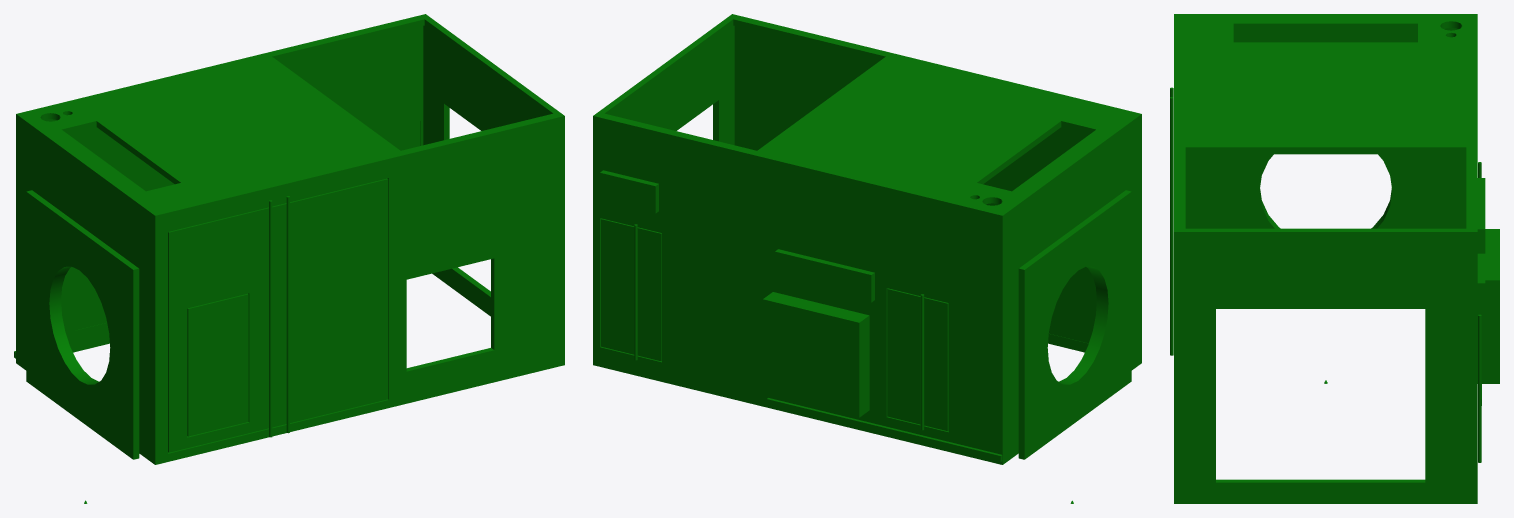
Rendered from Image-1710907725255-2280980584464_27-KA50(T)ENCLOSURE_TURBINE.fbx.
3 views of the same model, side by side, from view 1: azimuth 30°, elevation 25°; view 2: azimuth 150°, elevation 25°; view 3: azimuth 270°, elevation 25° (orthographic). The views are drawn at different scales.
Parts seen in each view (by area): view 1: BOX 2 of EQUIPMENT /27-KA50(T)/ENCLOSURE_TURBINE, BOX 14 of EQUIPMENT /27-KA50(T)/ENCLOSURE_TURBINE, BOX 6 of EQUIPMENT /27-KA50(T)/ENCLOSURE_TURBINE, BOX 11 of EQUIPMENT /27-KA50(T)/ENCLOSURE_TURBINE, BOX 4 of EQUIPMENT /27-KA50(T)/ENCLOSURE_TURBINE, BOX 3 of EQUIPMENT /27-KA50(T)/ENCLOSURE_TURBINE, BOX 5 of EQUIPMENT /27-KA50(T)/ENCLOSURE_TURBINE, BOX 7 of EQUIPMENT /27-KA50(T)/ENCLOSURE_TURBINE, BOX 8 of EQUIPMENT /27-KA50(T)/ENCLOSURE_TURBINE, CYLINDER 4 of EQUIPMENT /27-KA50(T)/ENCLOSURE_TURBINE, CYLINDER 3 of EQUIPMENT /27-KA50(T)/ENCLOSURE_TURBINE, BOX 12 of EQUIPMENT /27-KA50(T)/ENCLOSURE_TURBINE; view 2: BOX 3 of EQUIPMENT /27-KA50(T)/ENCLOSURE_TURBINE, BOX 6 of EQUIPMENT /27-KA50(T)/ENCLOSURE_TURBINE, BOX 11 of EQUIPMENT /27-KA50(T)/ENCLOSURE_TURBINE, BOX 4 of EQUIPMENT /27-KA50(T)/ENCLOSURE_TURBINE, BOX 2 of EQUIPMENT /27-KA50(T)/ENCLOSURE_TURBINE, BOX 9 of EQUIPMENT /27-KA50(T)/ENCLOSURE_TURBINE, BOX 5 of EQUIPMENT /27-KA50(T)/ENCLOSURE_TURBINE, BOX 12 of EQUIPMENT /27-KA50(T)/ENCLOSURE_TURBINE, BOX 8 of EQUIPMENT /27-KA50(T)/ENCLOSURE_TURBINE, BOX 10 of EQUIPMENT /27-KA50(T)/ENCLOSURE_TURBINE, BOX 14 of EQUIPMENT /27-KA50(T)/ENCLOSURE_TURBINE, BOX 7 of EQUIPMENT /27-KA50(T)/ENCLOSURE_TURBINE (+3 smaller); view 3: BOX 5 of EQUIPMENT /27-KA50(T)/ENCLOSURE_TURBINE, BOX 6 of EQUIPMENT /27-KA50(T)/ENCLOSURE_TURBINE, BOX 4 of EQUIPMENT /27-KA50(T)/ENCLOSURE_TURBINE, BOX 9 of EQUIPMENT /27-KA50(T)/ENCLOSURE_TURBINE, BOX 2 of EQUIPMENT /27-KA50(T)/ENCLOSURE_TURBINE, BOX 3 of EQUIPMENT /27-KA50(T)/ENCLOSURE_TURBINE, CYLINDER 3 of EQUIPMENT /27-KA50(T)/ENCLOSURE_TURBINE, BOX 10 of EQUIPMENT /27-KA50(T)/ENCLOSURE_TURBINE, CYLINDER 2 of EQUIPMENT /27-KA50(T)/ENCLOSURE_TURBINE, BOX 13 of EQUIPMENT /27-KA50(T)/ENCLOSURE_TURBINE.
Part boxes in pixels (x1,y1,x2,y2): BOX 2 of EQUIPMENT /27-KA50(T)/ENCLOSURE_TURBINE: (158, 115, 558, 463); BOX 14 of EQUIPMENT /27-KA50(T)/ENCLOSURE_TURBINE: (168, 178, 388, 452); BOX 6 of EQUIPMENT /27-KA50(T)/ENCLOSURE_TURBINE: (26, 18, 555, 211); BOX 11 of EQUIPMENT /27-KA50(T)/ENCLOSURE_TURBINE: (26, 190, 139, 459); BOX 4 of EQUIPMENT /27-KA50(T)/ENCLOSURE_TURBINE: (16, 112, 160, 464); BOX 3 of EQUIPMENT /27-KA50(T)/ENCLOSURE_TURBINE: (22, 15, 423, 352); BOX 5 of EQUIPMENT /27-KA50(T)/ENCLOSURE_TURBINE: (420, 14, 564, 366); BOX 7 of EQUIPMENT /27-KA50(T)/ENCLOSURE_TURBINE: (187, 293, 248, 436); BOX 8 of EQUIPMENT /27-KA50(T)/ENCLOSURE_TURBINE: (75, 268, 106, 330); CYLINDER 4 of EQUIPMENT /27-KA50(T)/ENCLOSURE_TURBINE: (269, 200, 272, 437); CYLINDER 3 of EQUIPMENT /27-KA50(T)/ENCLOSURE_TURBINE: (286, 196, 289, 433); BOX 12 of EQUIPMENT /27-KA50(T)/ENCLOSURE_TURBINE: (375, 121, 419, 150); BOX 3 of EQUIPMENT /27-KA50(T)/ENCLOSURE_TURBINE: (599, 115, 999, 463); BOX 6 of EQUIPMENT /27-KA50(T)/ENCLOSURE_TURBINE: (602, 18, 1131, 211); BOX 11 of EQUIPMENT /27-KA50(T)/ENCLOSURE_TURBINE: (1018, 190, 1131, 459); BOX 4 of EQUIPMENT /27-KA50(T)/ENCLOSURE_TURBINE: (997, 112, 1141, 464); BOX 2 of EQUIPMENT /27-KA50(T)/ENCLOSURE_TURBINE: (734, 15, 1135, 352); BOX 9 of EQUIPMENT /27-KA50(T)/ENCLOSURE_TURBINE: (763, 292, 869, 417); BOX 5 of EQUIPMENT /27-KA50(T)/ENCLOSURE_TURBINE: (593, 14, 737, 366); BOX 12 of EQUIPMENT /27-KA50(T)/ENCLOSURE_TURBINE: (601, 218, 661, 361); BOX 8 of EQUIPMENT /27-KA50(T)/ENCLOSURE_TURBINE: (887, 288, 948, 431); BOX 10 of EQUIPMENT /27-KA50(T)/ENCLOSURE_TURBINE: (775, 249, 874, 302); BOX 14 of EQUIPMENT /27-KA50(T)/ENCLOSURE_TURBINE: (983, 127, 1091, 343); BOX 7 of EQUIPMENT /27-KA50(T)/ENCLOSURE_TURBINE: (1050, 267, 1096, 333); BOX 5 of EQUIPMENT /27-KA50(T)/ENCLOSURE_TURBINE: (1174, 229, 1477, 503); BOX 6 of EQUIPMENT /27-KA50(T)/ENCLOSURE_TURBINE: (1181, 17, 1470, 228); BOX 4 of EQUIPMENT /27-KA50(T)/ENCLOSURE_TURBINE: (1174, 14, 1477, 228); BOX 9 of EQUIPMENT /27-KA50(T)/ENCLOSURE_TURBINE: (1477, 229, 1499, 383); BOX 2 of EQUIPMENT /27-KA50(T)/ENCLOSURE_TURBINE: (1174, 17, 1181, 228); BOX 3 of EQUIPMENT /27-KA50(T)/ENCLOSURE_TURBINE: (1470, 17, 1477, 228); CYLINDER 3 of EQUIPMENT /27-KA50(T)/ENCLOSURE_TURBINE: (1170, 97, 1173, 355); BOX 10 of EQUIPMENT /27-KA50(T)/ENCLOSURE_TURBINE: (1477, 178, 1485, 253); CYLINDER 2 of EQUIPMENT /27-KA50(T)/ENCLOSURE_TURBINE: (1478, 314, 1481, 462); BOX 13 of EQUIPMENT /27-KA50(T)/ENCLOSURE_TURBINE: (1477, 253, 1485, 313).
Size of the model in its own units: 7.1 by 4.48 by 5.53.
